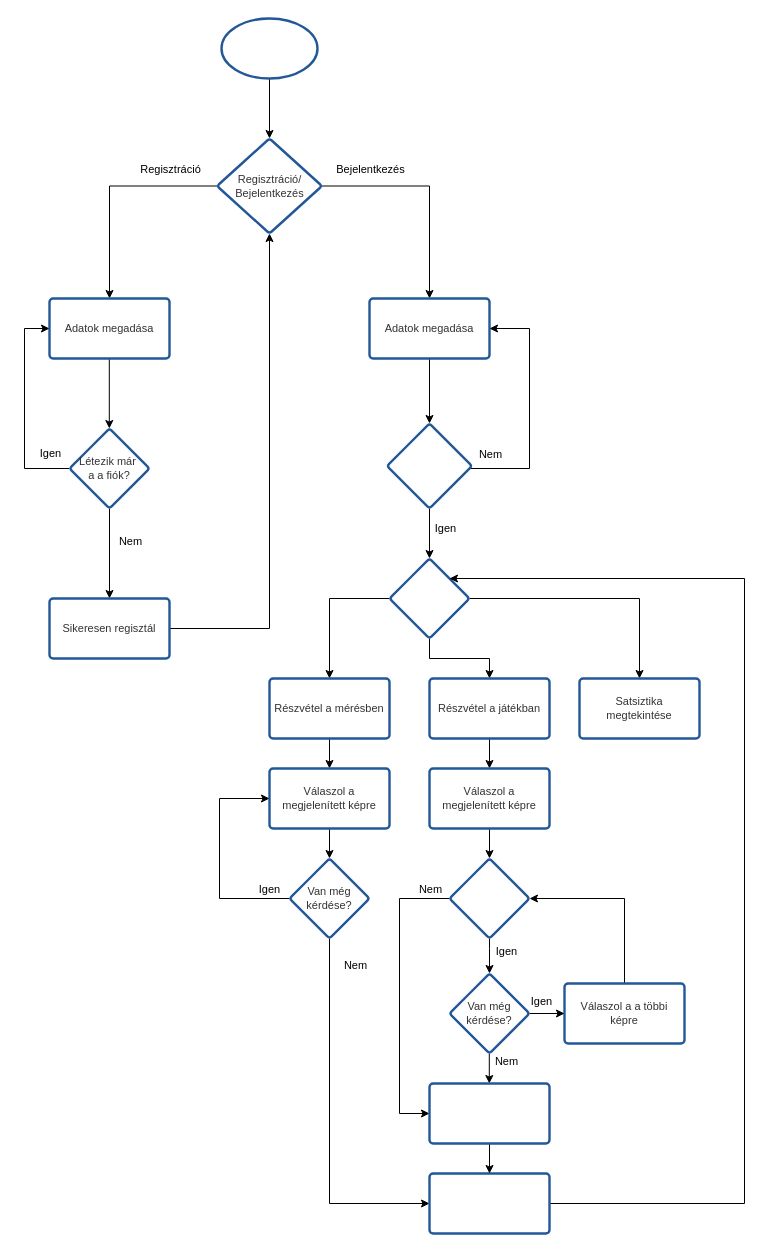
The diagram is 770 pixels wide and 1252 high, and some of its shapes have lost their labels. The shapes that lost their labels are listed below. From the top down, each one's centre as x and y in pixels, then its label:
(x=269, y=48): Kezdő felület
(x=429, y=465): Létezik ilyen fiók?
(x=429, y=598): Sikeresen Belép
(x=489, y=898): Helyes volt?
(x=489, y=1113): Vége a játéknak
(x=489, y=1203): Megjelenik az elért eredmény
